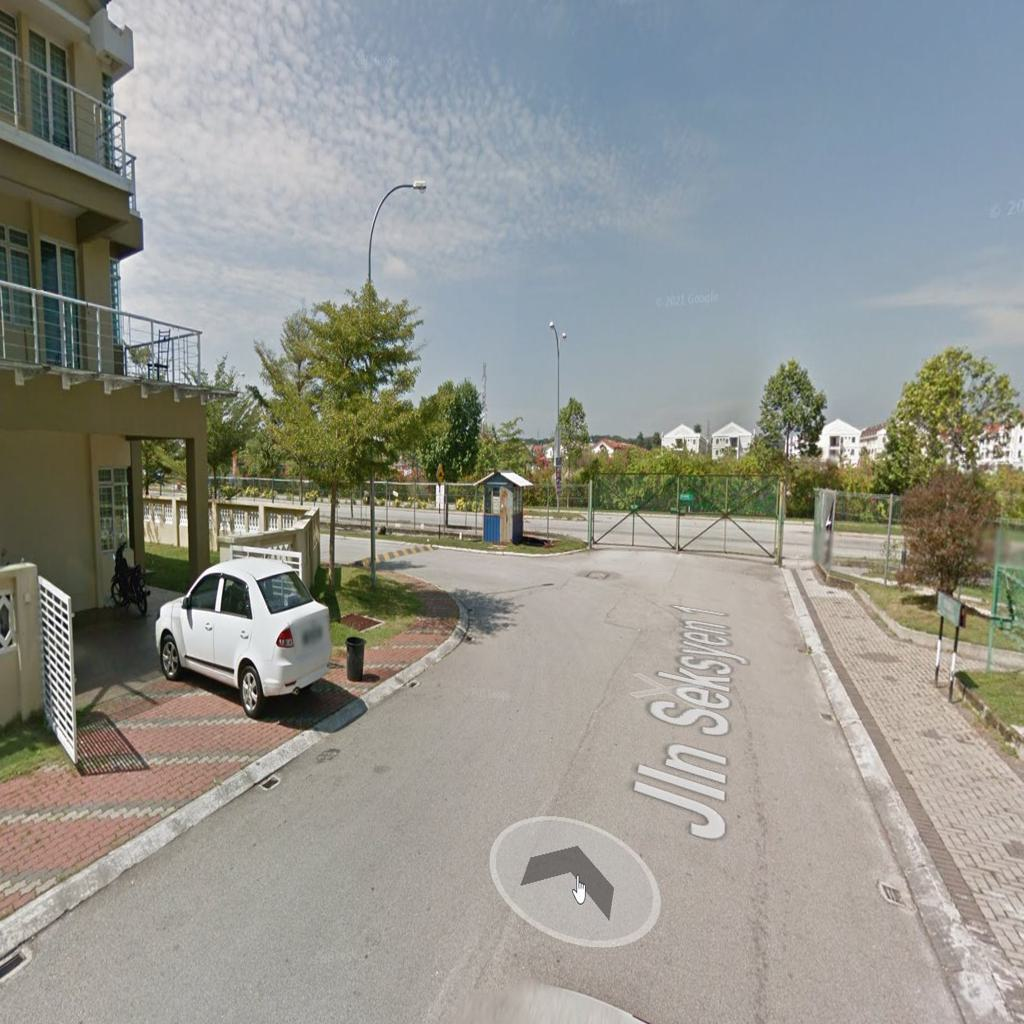Junction: (339, 500, 602, 683)
